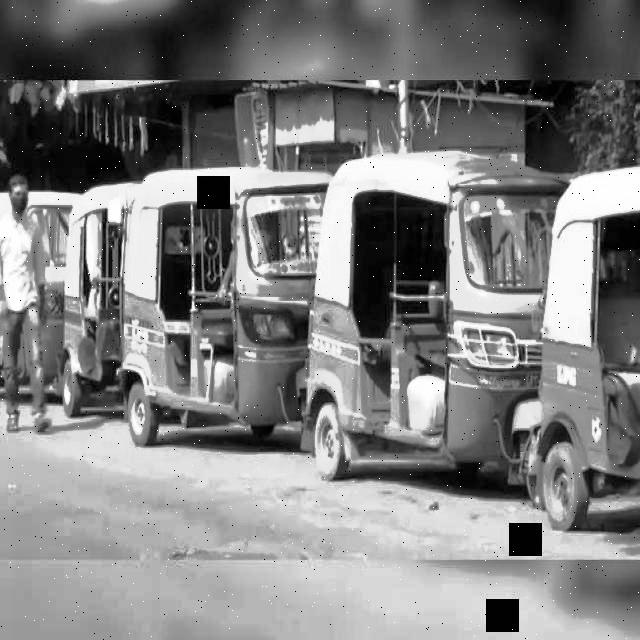Auto-Rickshaw: (297, 145, 569, 509), (116, 165, 338, 458), (533, 160, 640, 525), (1, 184, 85, 420), (68, 191, 152, 426)
